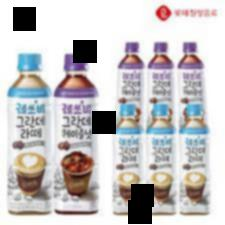letsbe_grande_hazelnut: (54, 51, 100, 217)
